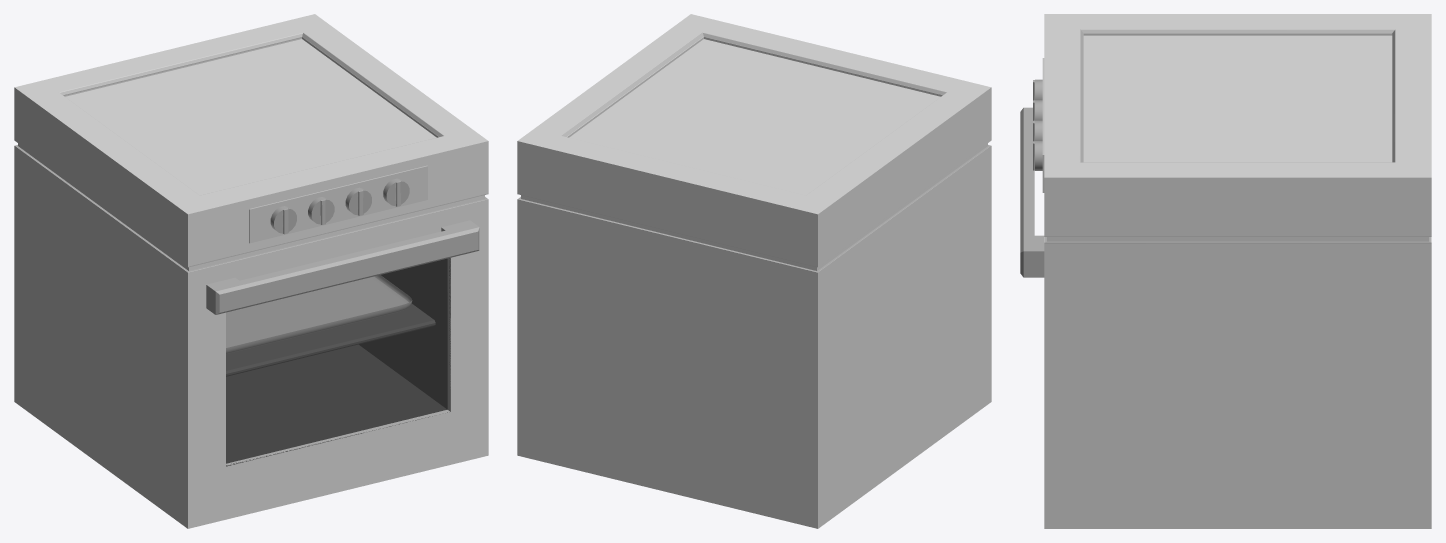
File: Oven.glb
3 renders of one model, left to right at view 1: azimuth 30°, elevation 25°; view 2: azimuth 150°, elevation 25°; view 3: azimuth 270°, elevation 25°, orthographic. The views are drawn at different scales.
Visible parts, largest first — view 1: Oven; view 2: Oven; view 3: Oven.
Boxes of the visible parts, x1=… form: Oven: x1=14, y1=14, x2=488, y2=528; Oven: x1=517, y1=14, x2=991, y2=528; Oven: x1=1020, y1=14, x2=1431, y2=528.
Size of the model in its own units: 1 by 1 by 1.06.
3 materials, 1 textured.
